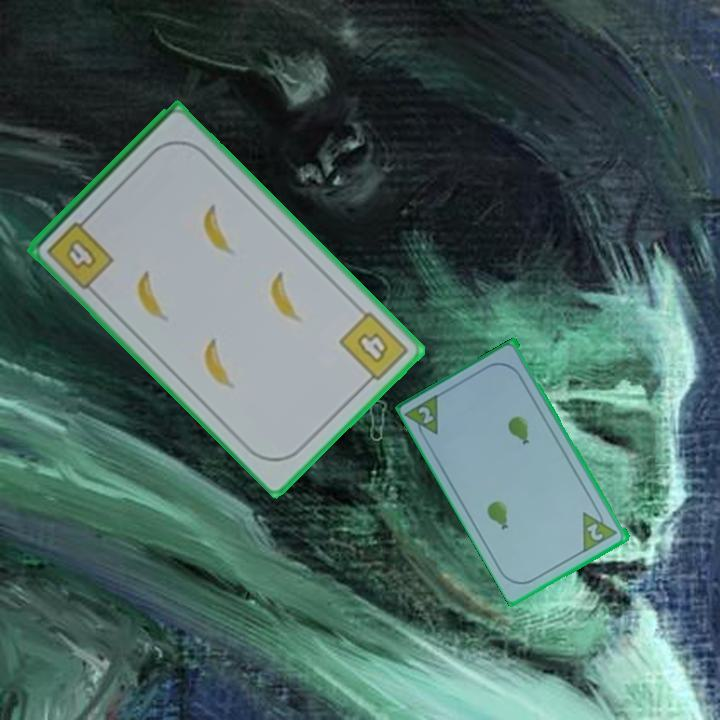2p: (403, 390, 444, 445), (584, 520, 607, 544)
4b: (336, 307, 412, 390), (43, 210, 118, 293)
